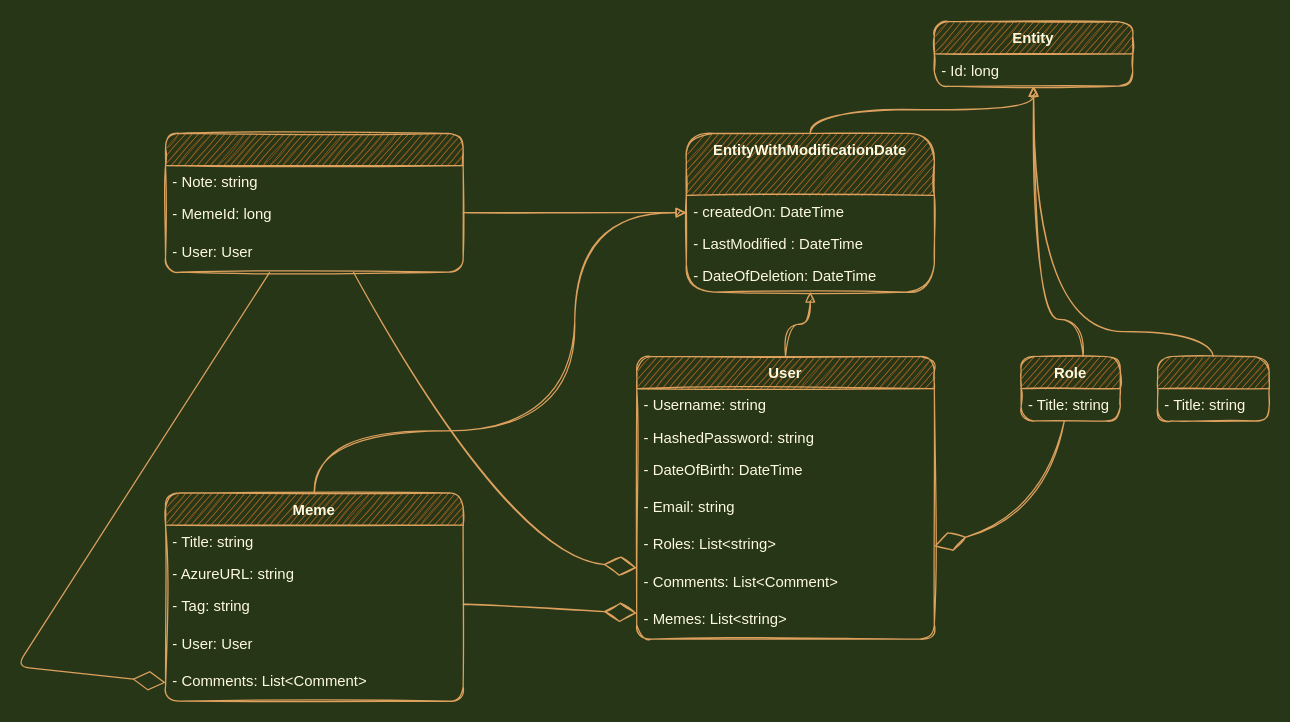
Some shapes in this 1290 by 722 pixel diagram are drawn without their labels. The shapes that lost their labels are listed below. From the top down, each one's box as (x1, y1, x2, y2) in pixels, then its label:
(164, 132, 463, 272): Comment
(1156, 355, 1269, 421): Tag
